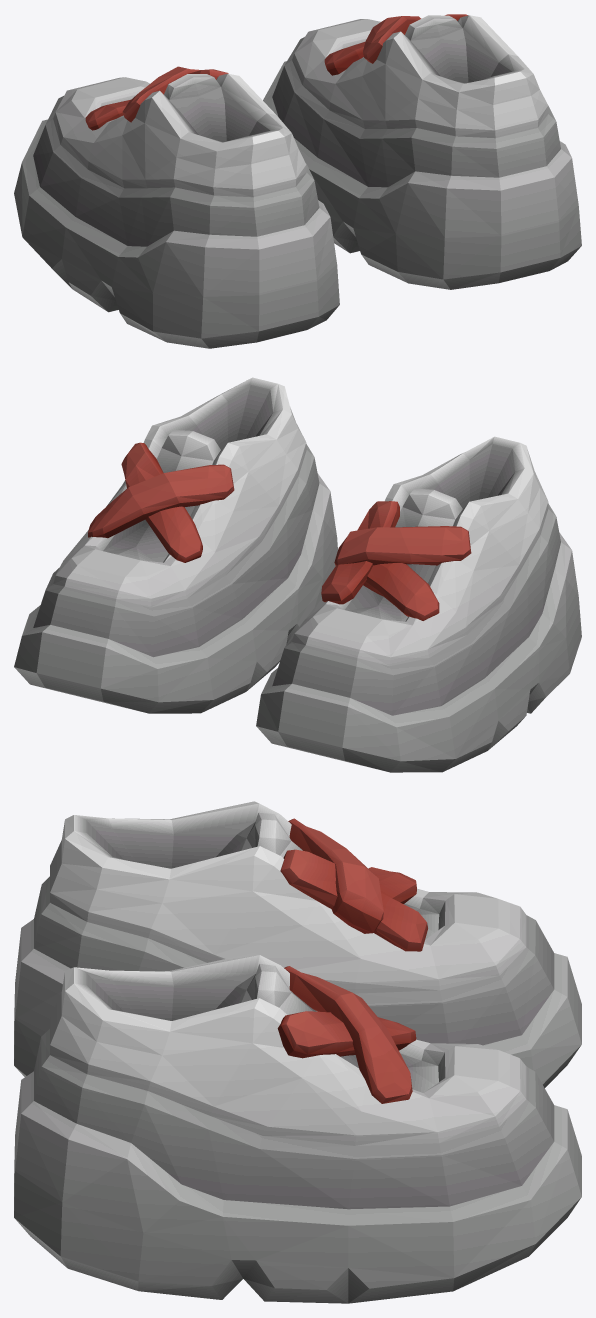
The model's file is CharSkyKid_Feet_AuroraSneakers.glb.
3 renders of one model, top to bottom at view 1: azimuth 30°, elevation 25°; view 2: azimuth 150°, elevation 25°; view 3: azimuth 270°, elevation 25°, orthographic. The views are drawn at different scales.
Parts seen in each view (by area): view 1: CharSkyKid_Feet_AuroraSneakers; view 2: CharSkyKid_Feet_AuroraSneakers; view 3: CharSkyKid_Feet_AuroraSneakers.
Boxes of the visible parts, x1,y1,x2,y2 form: CharSkyKid_Feet_AuroraSneakers: (14,14,581,348); CharSkyKid_Feet_AuroraSneakers: (14,377,581,772); CharSkyKid_Feet_AuroraSneakers: (14,801,581,1303).
Bounding box in the file's own units: 3.29 × 1.54 × 2.85.
Materials: 1 (1 with a texture image).
